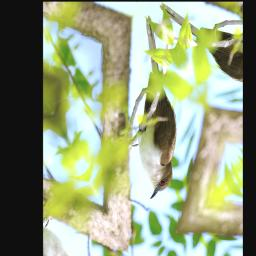Cuckoo: (82, 13, 220, 203)
